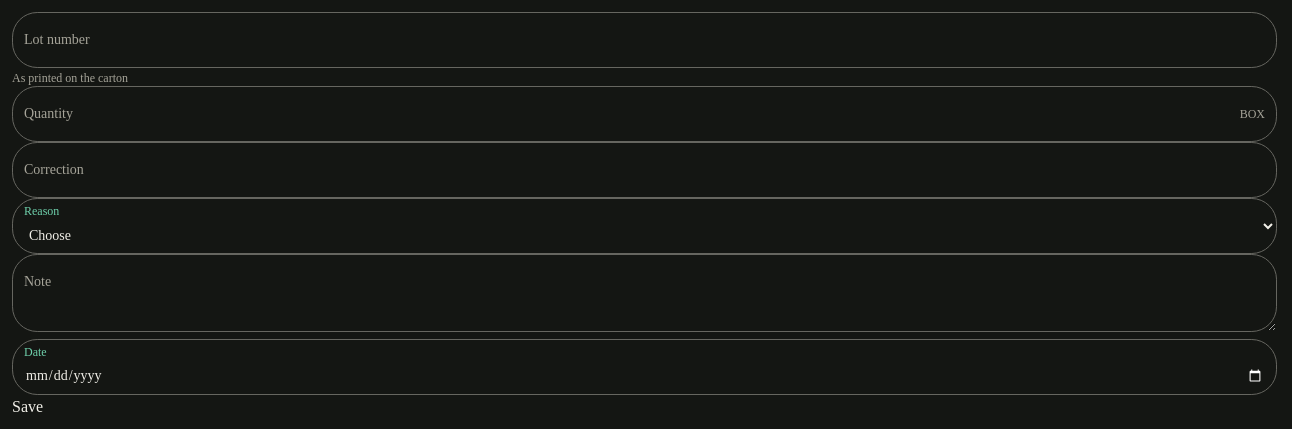
Test: number fields › shows the field without the characters it rejected
In the field labelled "Quantity": (644, 114) left=12, top=86, right=1277, bottom=142, type "12x34"
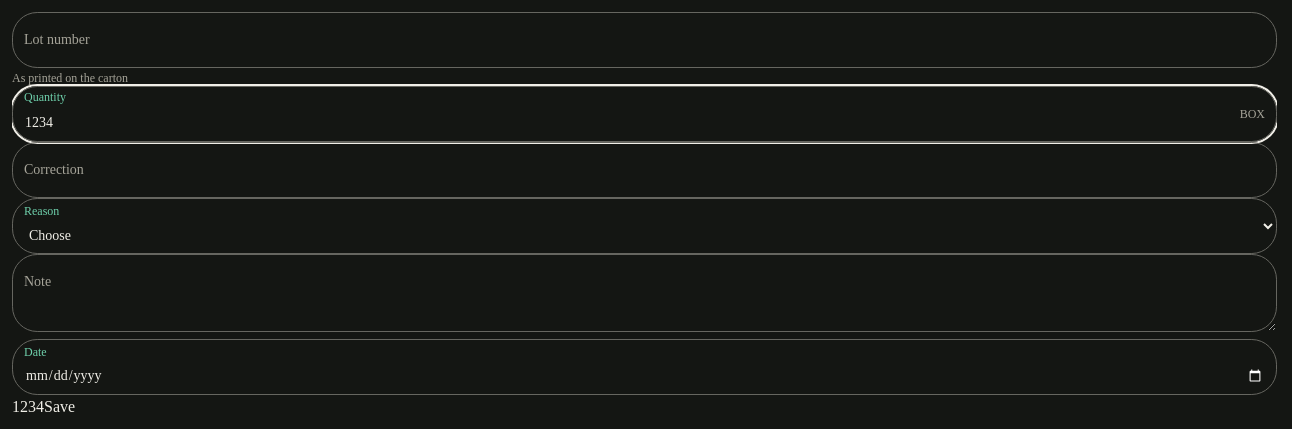
Now the field labelled "Quantity" holds "1234", box left=12, top=86, right=1277, bottom=142
